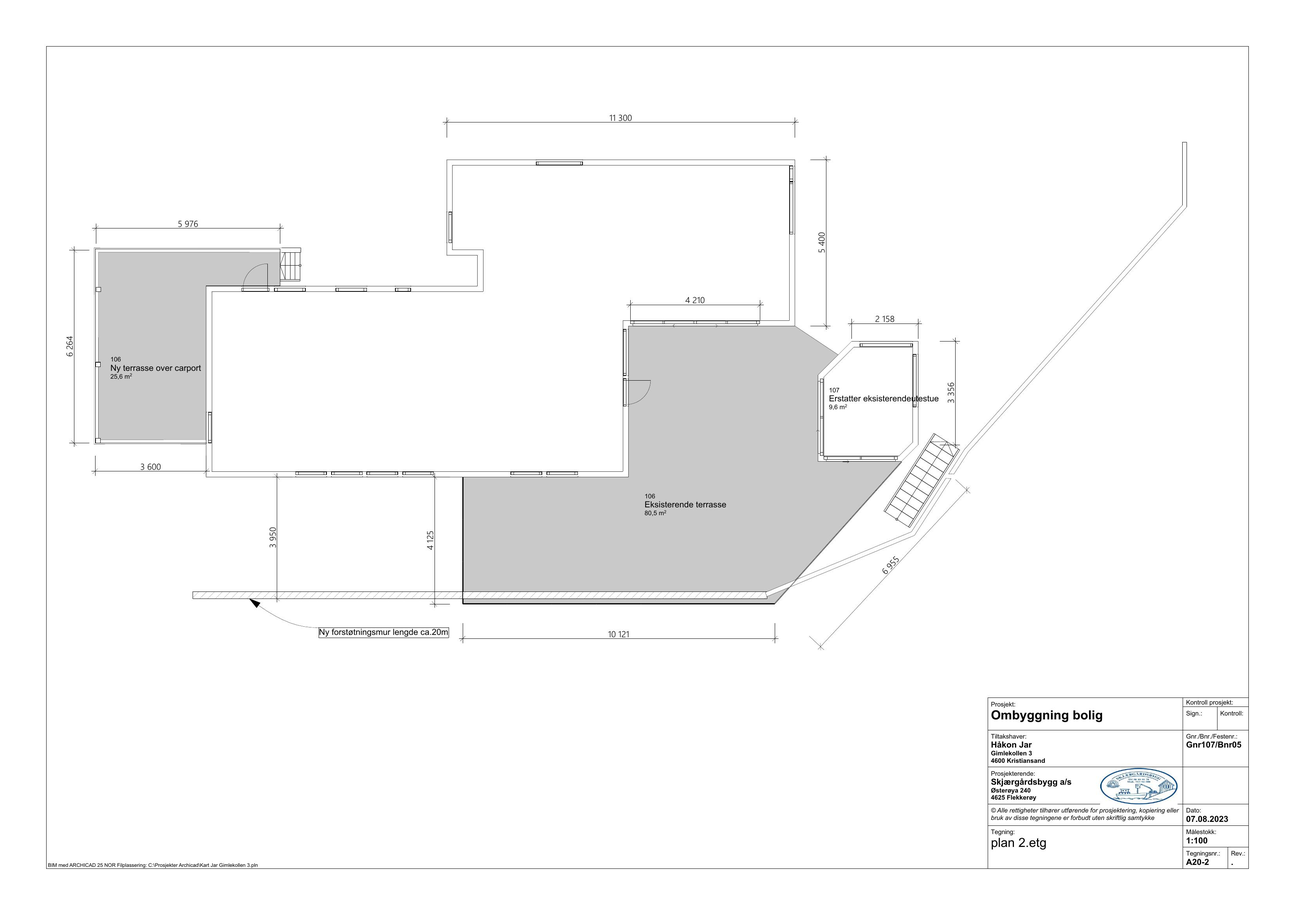plantegning: (75, 148, 977, 654)
tekst: (987, 838, 1052, 854), (1186, 835, 1211, 846)
